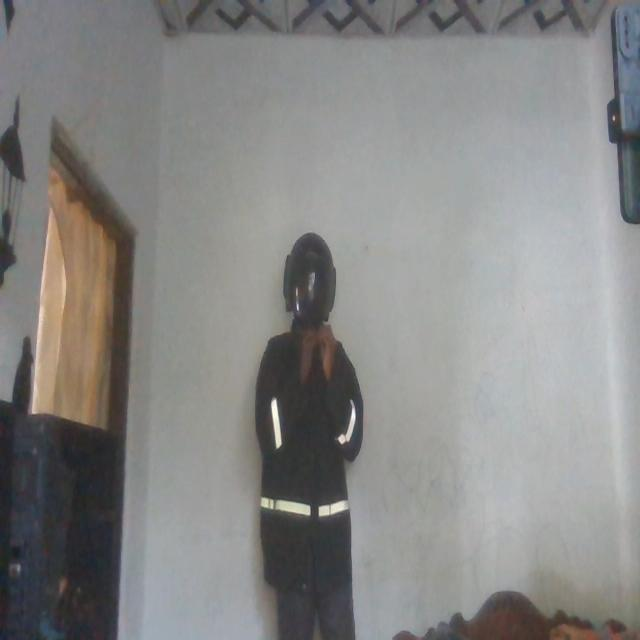Helmet_Wearer: (282, 228, 338, 346)
Jacket_Wearer: (252, 330, 364, 586)
Person: (254, 211, 363, 640)
